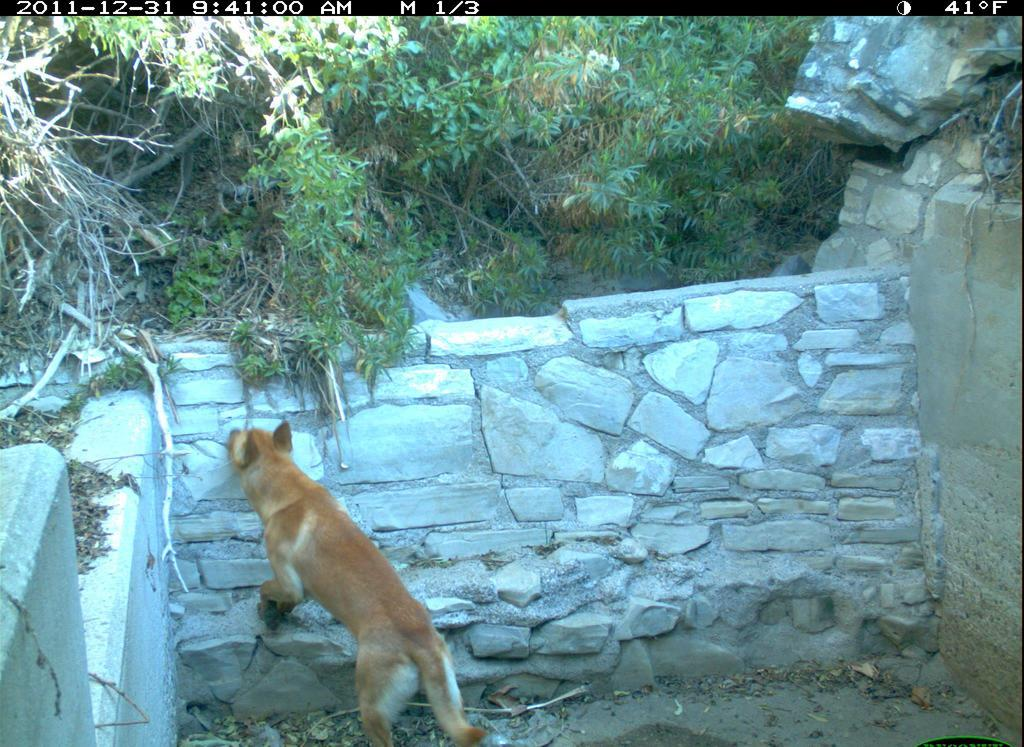dog: (214, 413, 492, 740)
